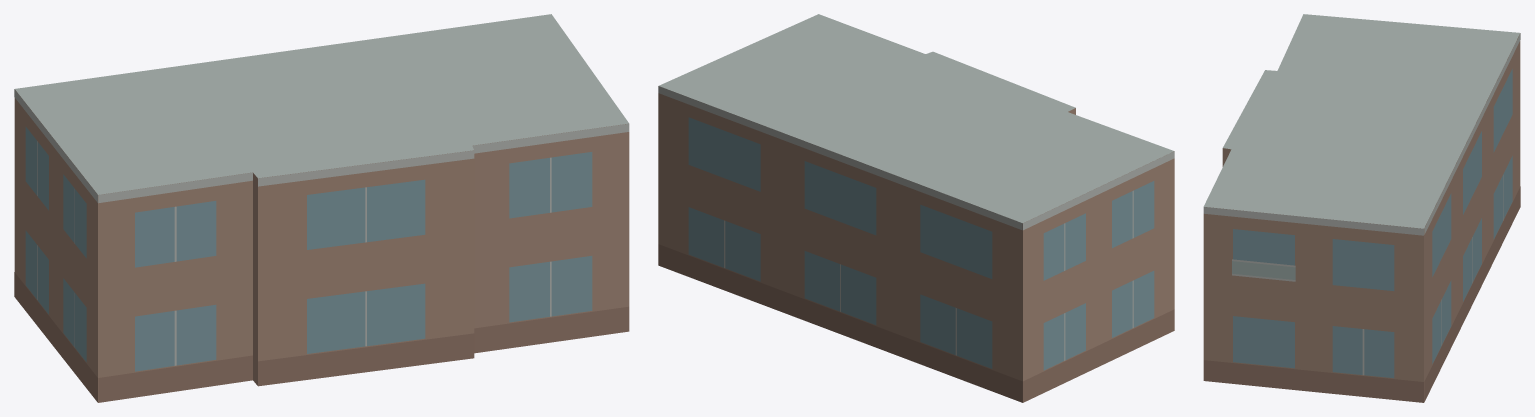
The model's file is survey-upis-32534838.glb.
The picture shows the model from 3 angles, left to right: view 1: azimuth 30°, elevation 25°; view 2: azimuth 150°, elevation 25°; view 3: azimuth 270°, elevation 25°; orthographic projection. The views are drawn at different scales.
Visible parts, largest first — view 1: survey-upis-32534838.tmp; view 2: survey-upis-32534838.tmp; view 3: survey-upis-32534838.tmp.
Part boxes in pixels (x1,y1,x2,y2): survey-upis-32534838.tmp: (14,14,629,402); survey-upis-32534838.tmp: (658,14,1174,402); survey-upis-32534838.tmp: (1203,14,1520,402).
Size of the model in its own units: 16.14 by 6.1 by 10.07.
